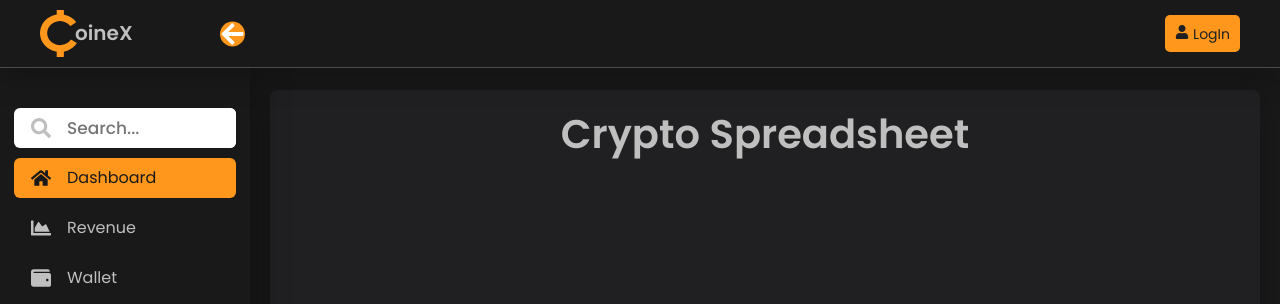
Test: tests the home screen › should check the opening and closing of sidebar
The width and height of the screenshot is (1280, 304).
Expected: the header with test id "header" is shown, [0,0,1279,67]
Click the icon with test id "toggle".
click(233, 34)  # box [220,21,245,46]
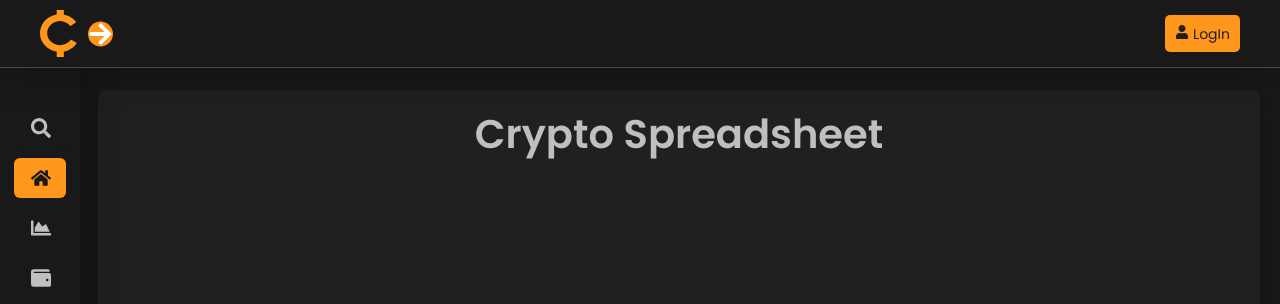
Result: the text with test id "logo-title" is gone
Click the icon with test id "toggle".
click(101, 34)  # box [88,21,113,46]
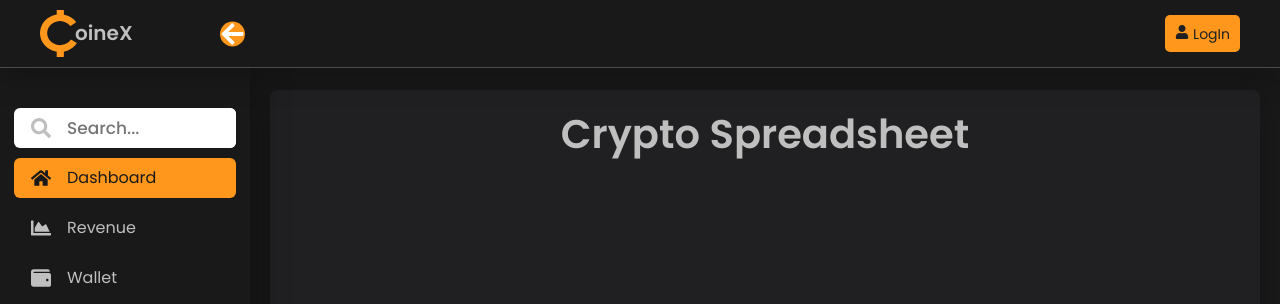
Result: the text "oineX" is shown at [75,22,133,45]
